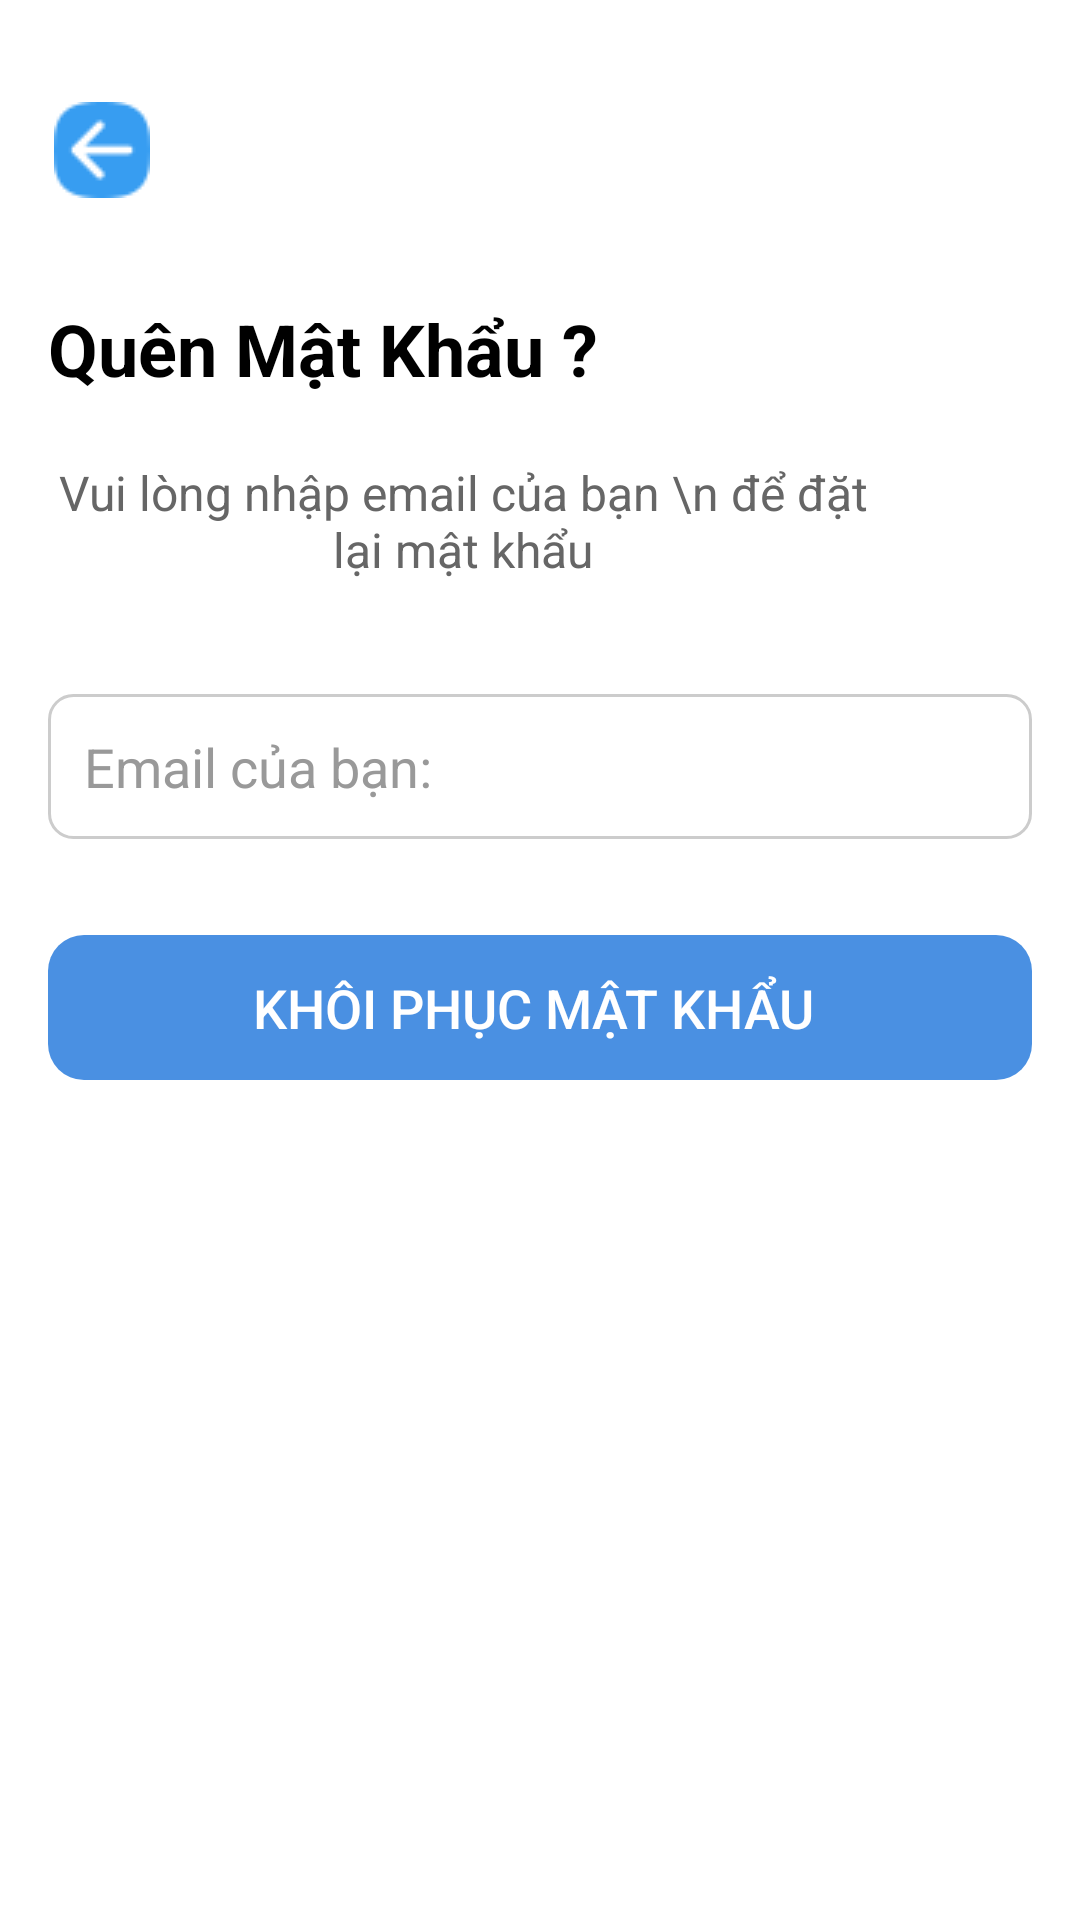

Screen size 1080 × 1920. Icon name, then its box in pixels as (x1, y1, x2, y2):
left: (54, 102, 150, 198)
